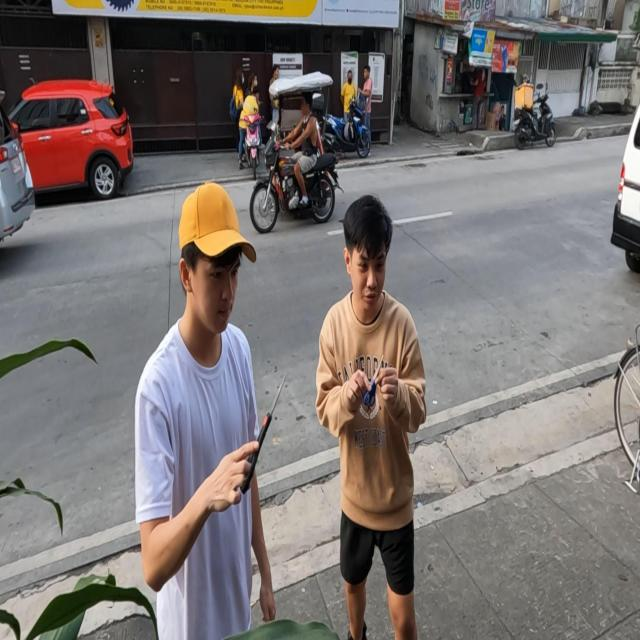scissor: (239, 371, 287, 496), (364, 354, 384, 406)
